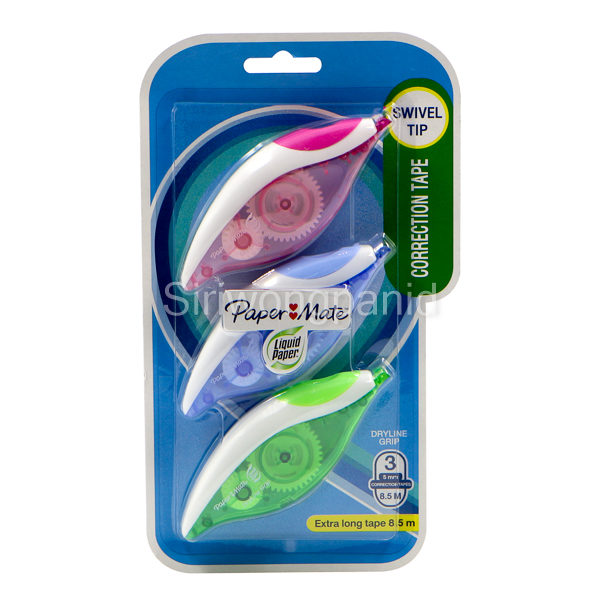Correction_fluid: (175, 237, 397, 422), (178, 361, 397, 547), (176, 109, 395, 294)
